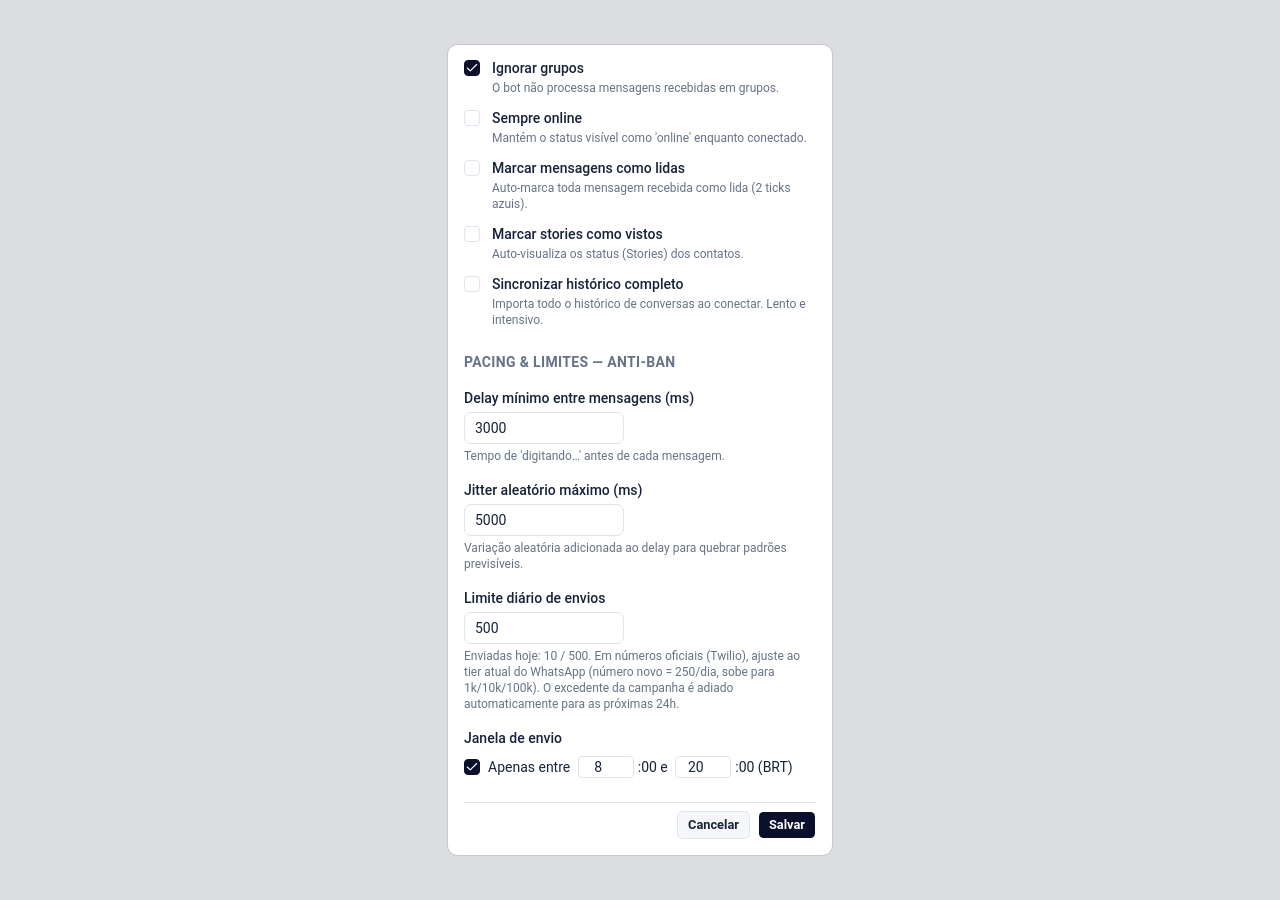
Scenario: InstanceConfigDrawer — numeric fields render + edit › shows a validation error and blocks save when a numeric is out of range
This screenshot has width=1280, height=900.
(page scrolled)
Clear the number field labelled "Limite diário de envios" at (544, 628), box [464, 612, 624, 644]
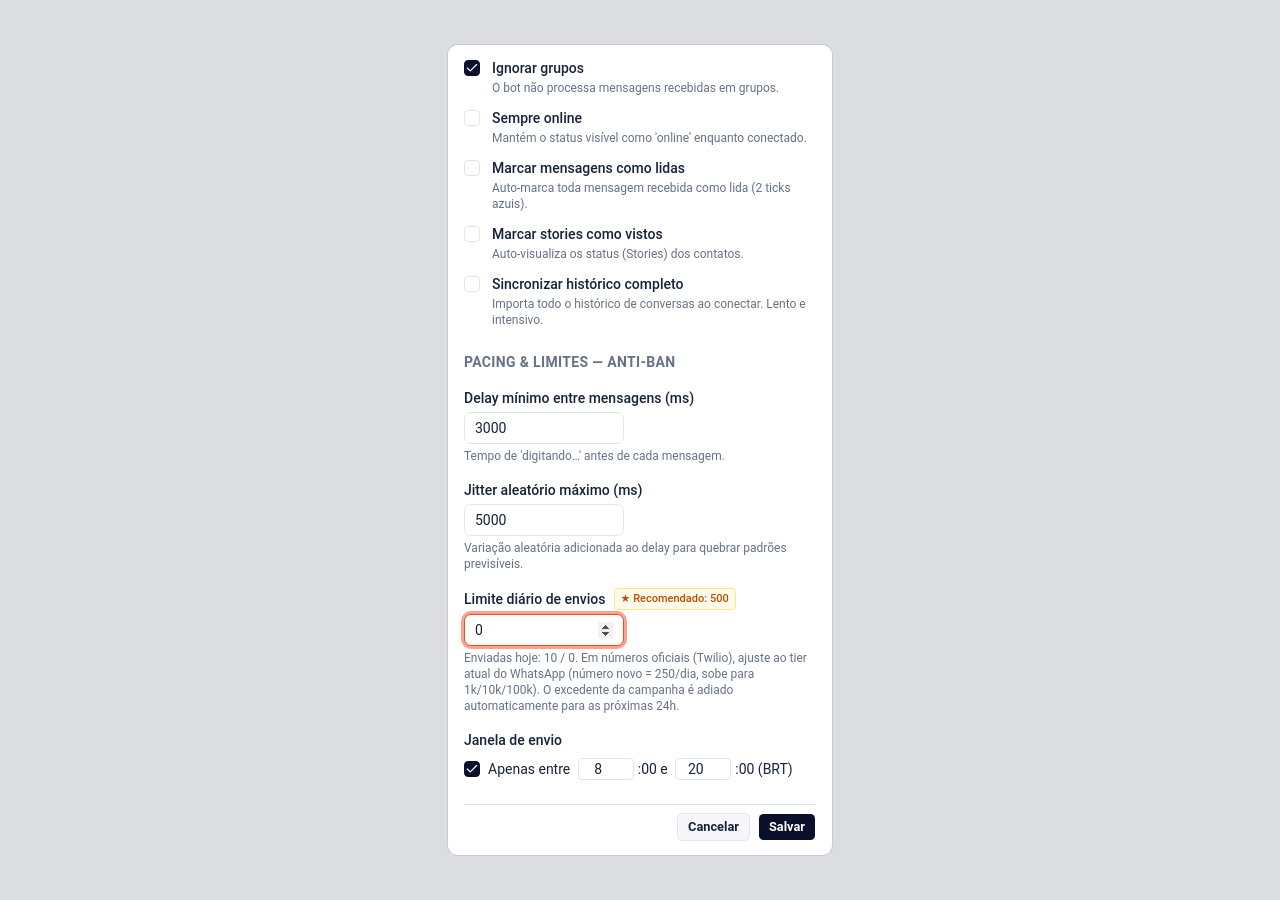
Type "99999" into the number field labelled "Limite diário de envios" at (544, 630), box [464, 614, 624, 646]
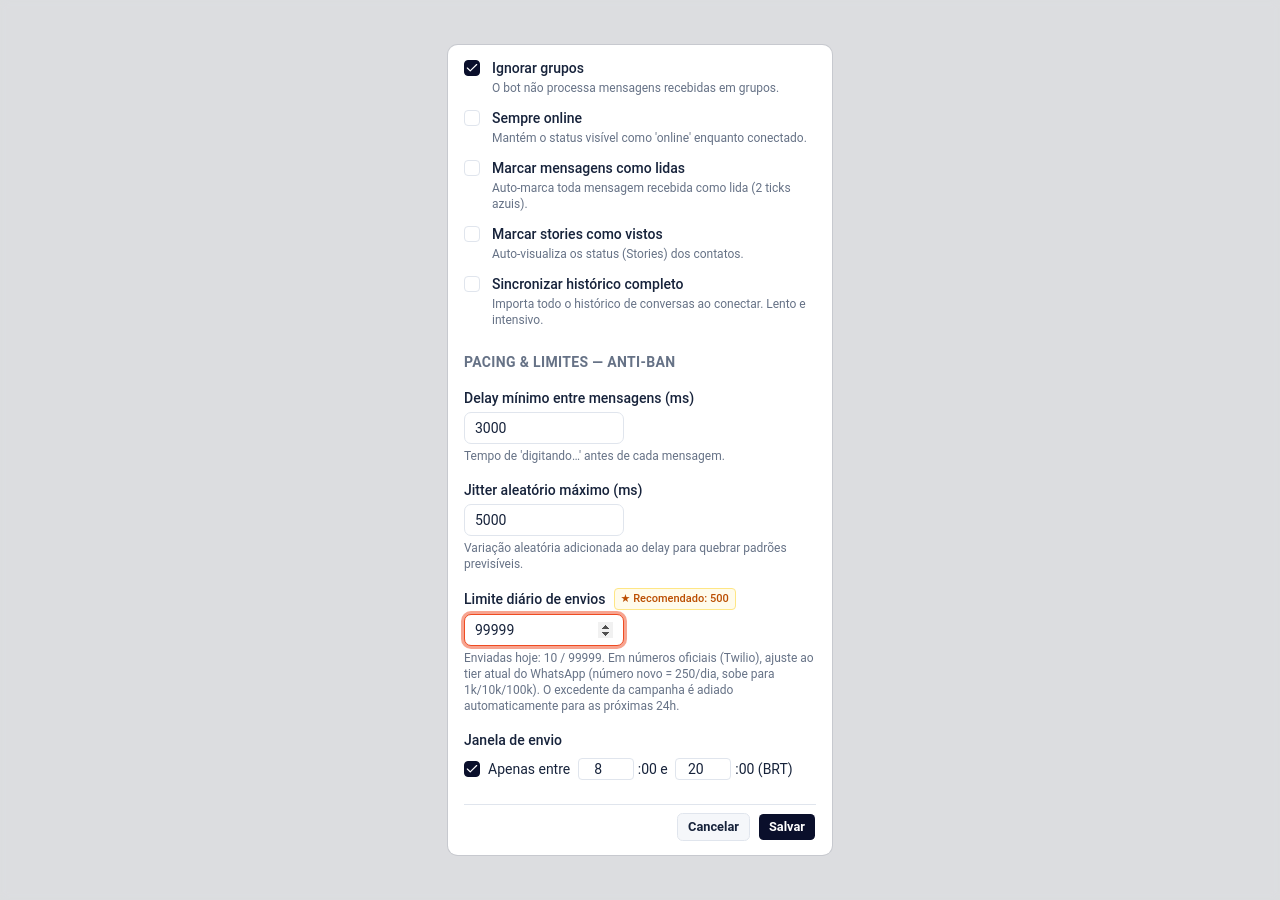
Click the button "Salvar" at (787, 827), box [758, 813, 816, 841]
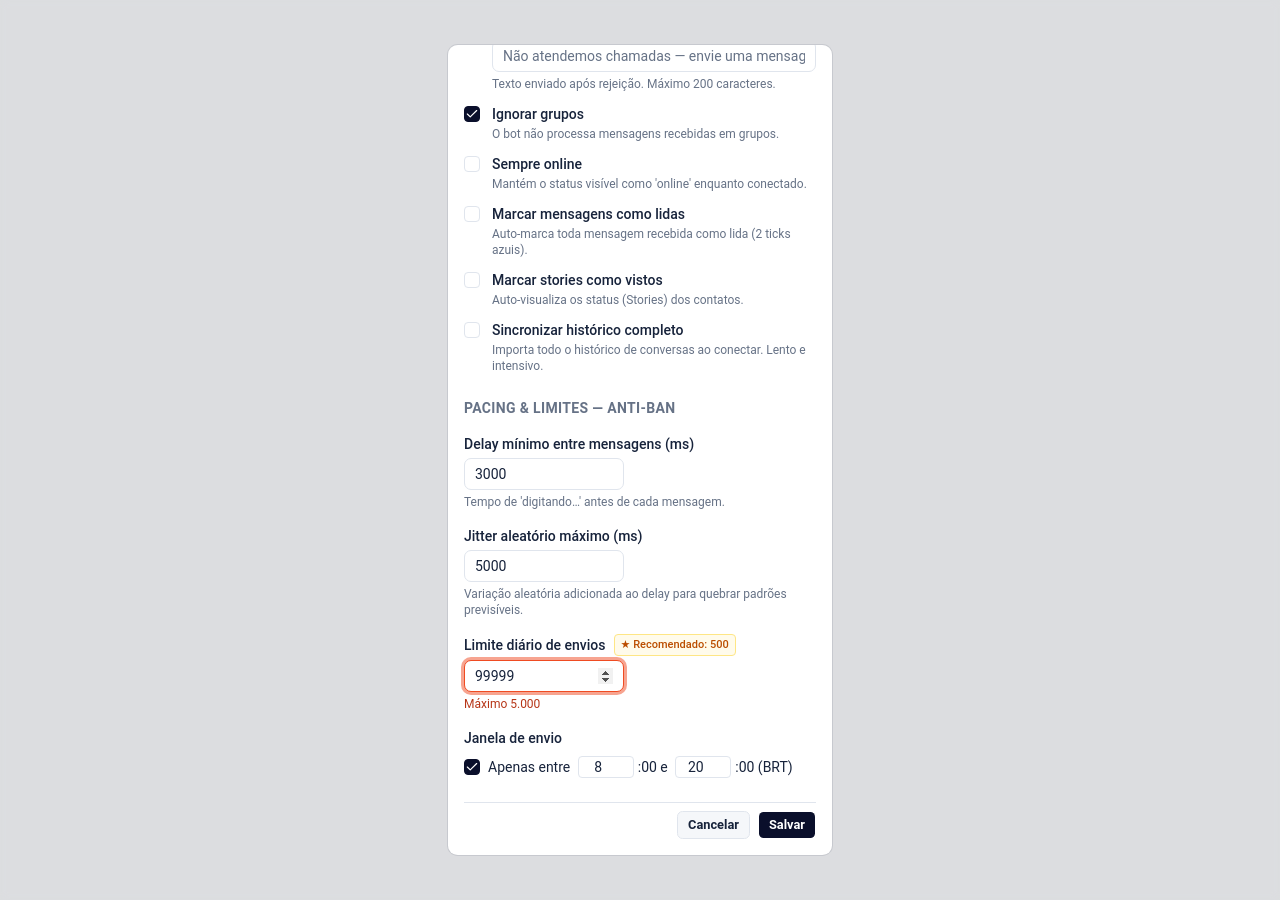
Check: the text "Máximo 5.000" is shown, box [464, 697, 540, 711]
